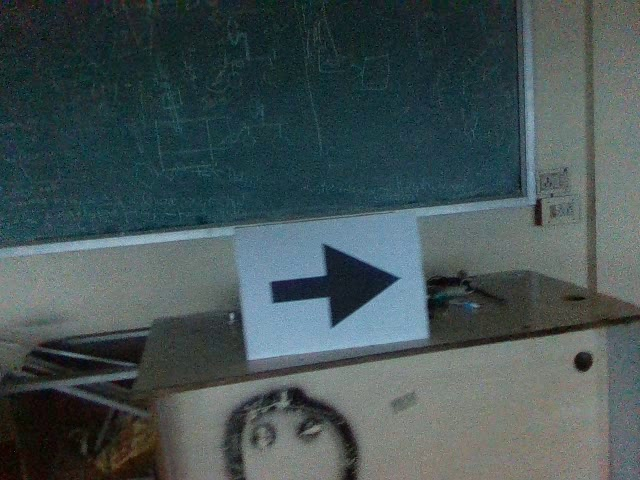Right: (262, 239, 405, 333)
